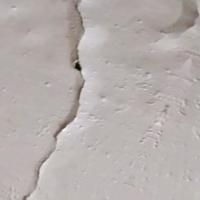crack: (17, 0, 100, 199)
